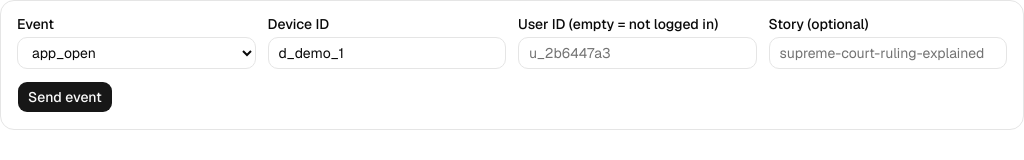
Scenario: EventSimulator › shows the reasons an event was refused
Click the button "Send event".
click(65, 97)  # box [17,81,113,113]
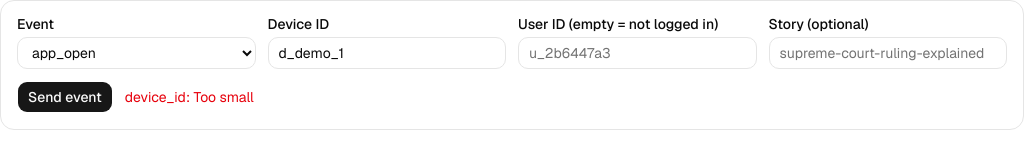
Check: the message reads "device_id: Too small", box [125,88,254,106]
